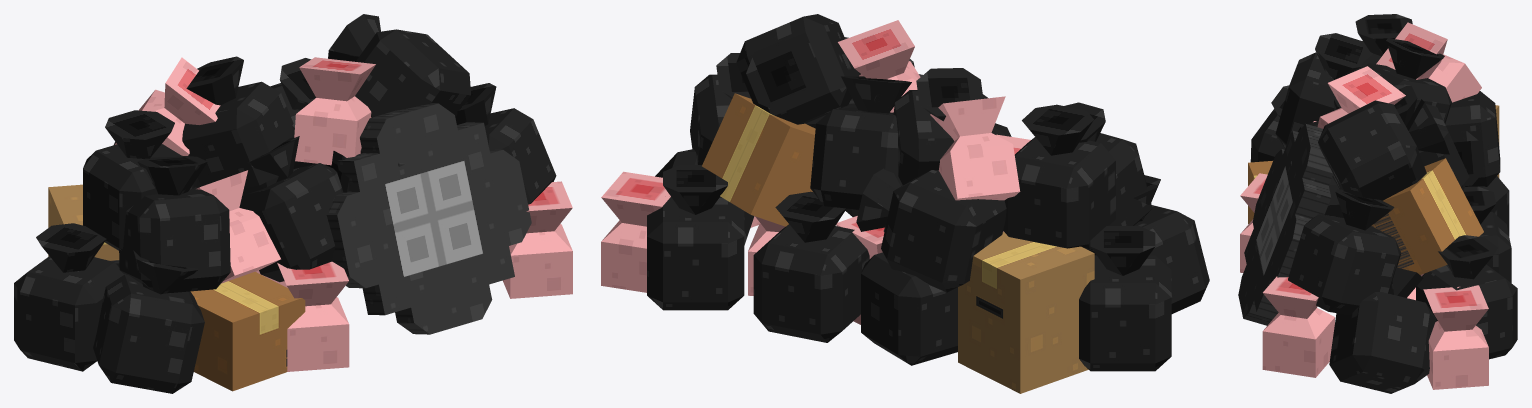
The model's file is C2_Garbage_02-2.FBX.
3 renders of one model, left to right at view 1: azimuth 30°, elevation 25°; view 2: azimuth 150°, elevation 25°; view 3: azimuth 270°, elevation 25°, orthographic. The views are drawn at different scales.
Parts seen in each view (by area): view 1: Box042, C2_Garbage_02-2, Box014, Box017, Box024, Box037, Box038, Box028, Box029, Box041, Box025, Box026 (+4 smaller); view 2: C2_Garbage_02-2, Box019, Box021, Box029, Box017, Box030, Box038, Box035, Box018, Box039, Box037, Box027 (+7 smaller); view 3: Box042, Box033, Box020, Box038, C2_Garbage_02-2, Box027, Box021, Box026, Box024, Box030, Box037, Box039 (+8 smaller).
Boxes of the visible parts, bbox=[...] form: Box042: bbox=[326, 103, 531, 334]; C2_Garbage_02-2: bbox=[48, 184, 305, 391]; Box014: bbox=[93, 250, 204, 393]; Box017: bbox=[14, 223, 124, 371]; Box024: bbox=[119, 155, 230, 292]; Box037: bbox=[182, 56, 295, 196]; Box038: bbox=[328, 14, 470, 117]; Box028: bbox=[239, 136, 343, 282]; Box029: bbox=[83, 110, 197, 250]; Box041: bbox=[294, 57, 375, 165]; Box025: bbox=[277, 261, 349, 371]; Box026: bbox=[502, 181, 572, 298]; C2_Garbage_02-2: bbox=[702, 93, 1094, 393]; Box019: bbox=[753, 191, 869, 342]; Box021: bbox=[647, 165, 744, 310]; Box029: bbox=[1003, 104, 1115, 248]; Box017: bbox=[1079, 226, 1171, 371]; Box030: bbox=[856, 168, 1006, 292]; Box038: bbox=[736, 14, 859, 124]; Box035: bbox=[810, 75, 911, 209]; Box018: bbox=[861, 226, 957, 365]; Box039: bbox=[930, 96, 1020, 200]; Box037: bbox=[893, 68, 996, 184]; Box027: bbox=[601, 171, 670, 292]; Box042: bbox=[1238, 124, 1333, 325]; Box033: bbox=[1288, 189, 1401, 314]; Box020: bbox=[1329, 267, 1436, 393]; Box038: bbox=[1318, 99, 1449, 200]; C2_Garbage_02-2: bbox=[1248, 105, 1499, 274]; Box027: bbox=[1423, 285, 1488, 389]; Box021: bbox=[1416, 235, 1517, 359]; Box026: bbox=[1262, 276, 1334, 377]; Box024: bbox=[1275, 33, 1372, 148]; Box030: bbox=[1445, 91, 1500, 186]; Box037: bbox=[1363, 38, 1451, 123]; Box039: bbox=[1376, 22, 1481, 102].
Bounding box in the file's own units: 226 × 113 × 117.
1 material, 1 textured.
